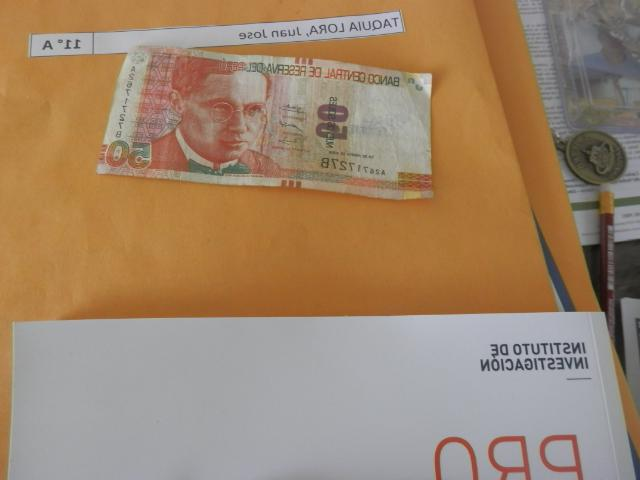B50: (97, 48, 432, 196)
